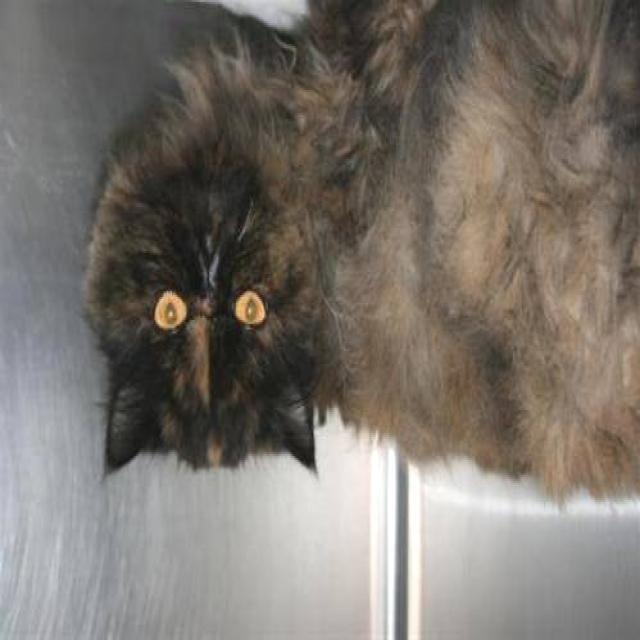Kucing: (24, 0, 639, 564)
